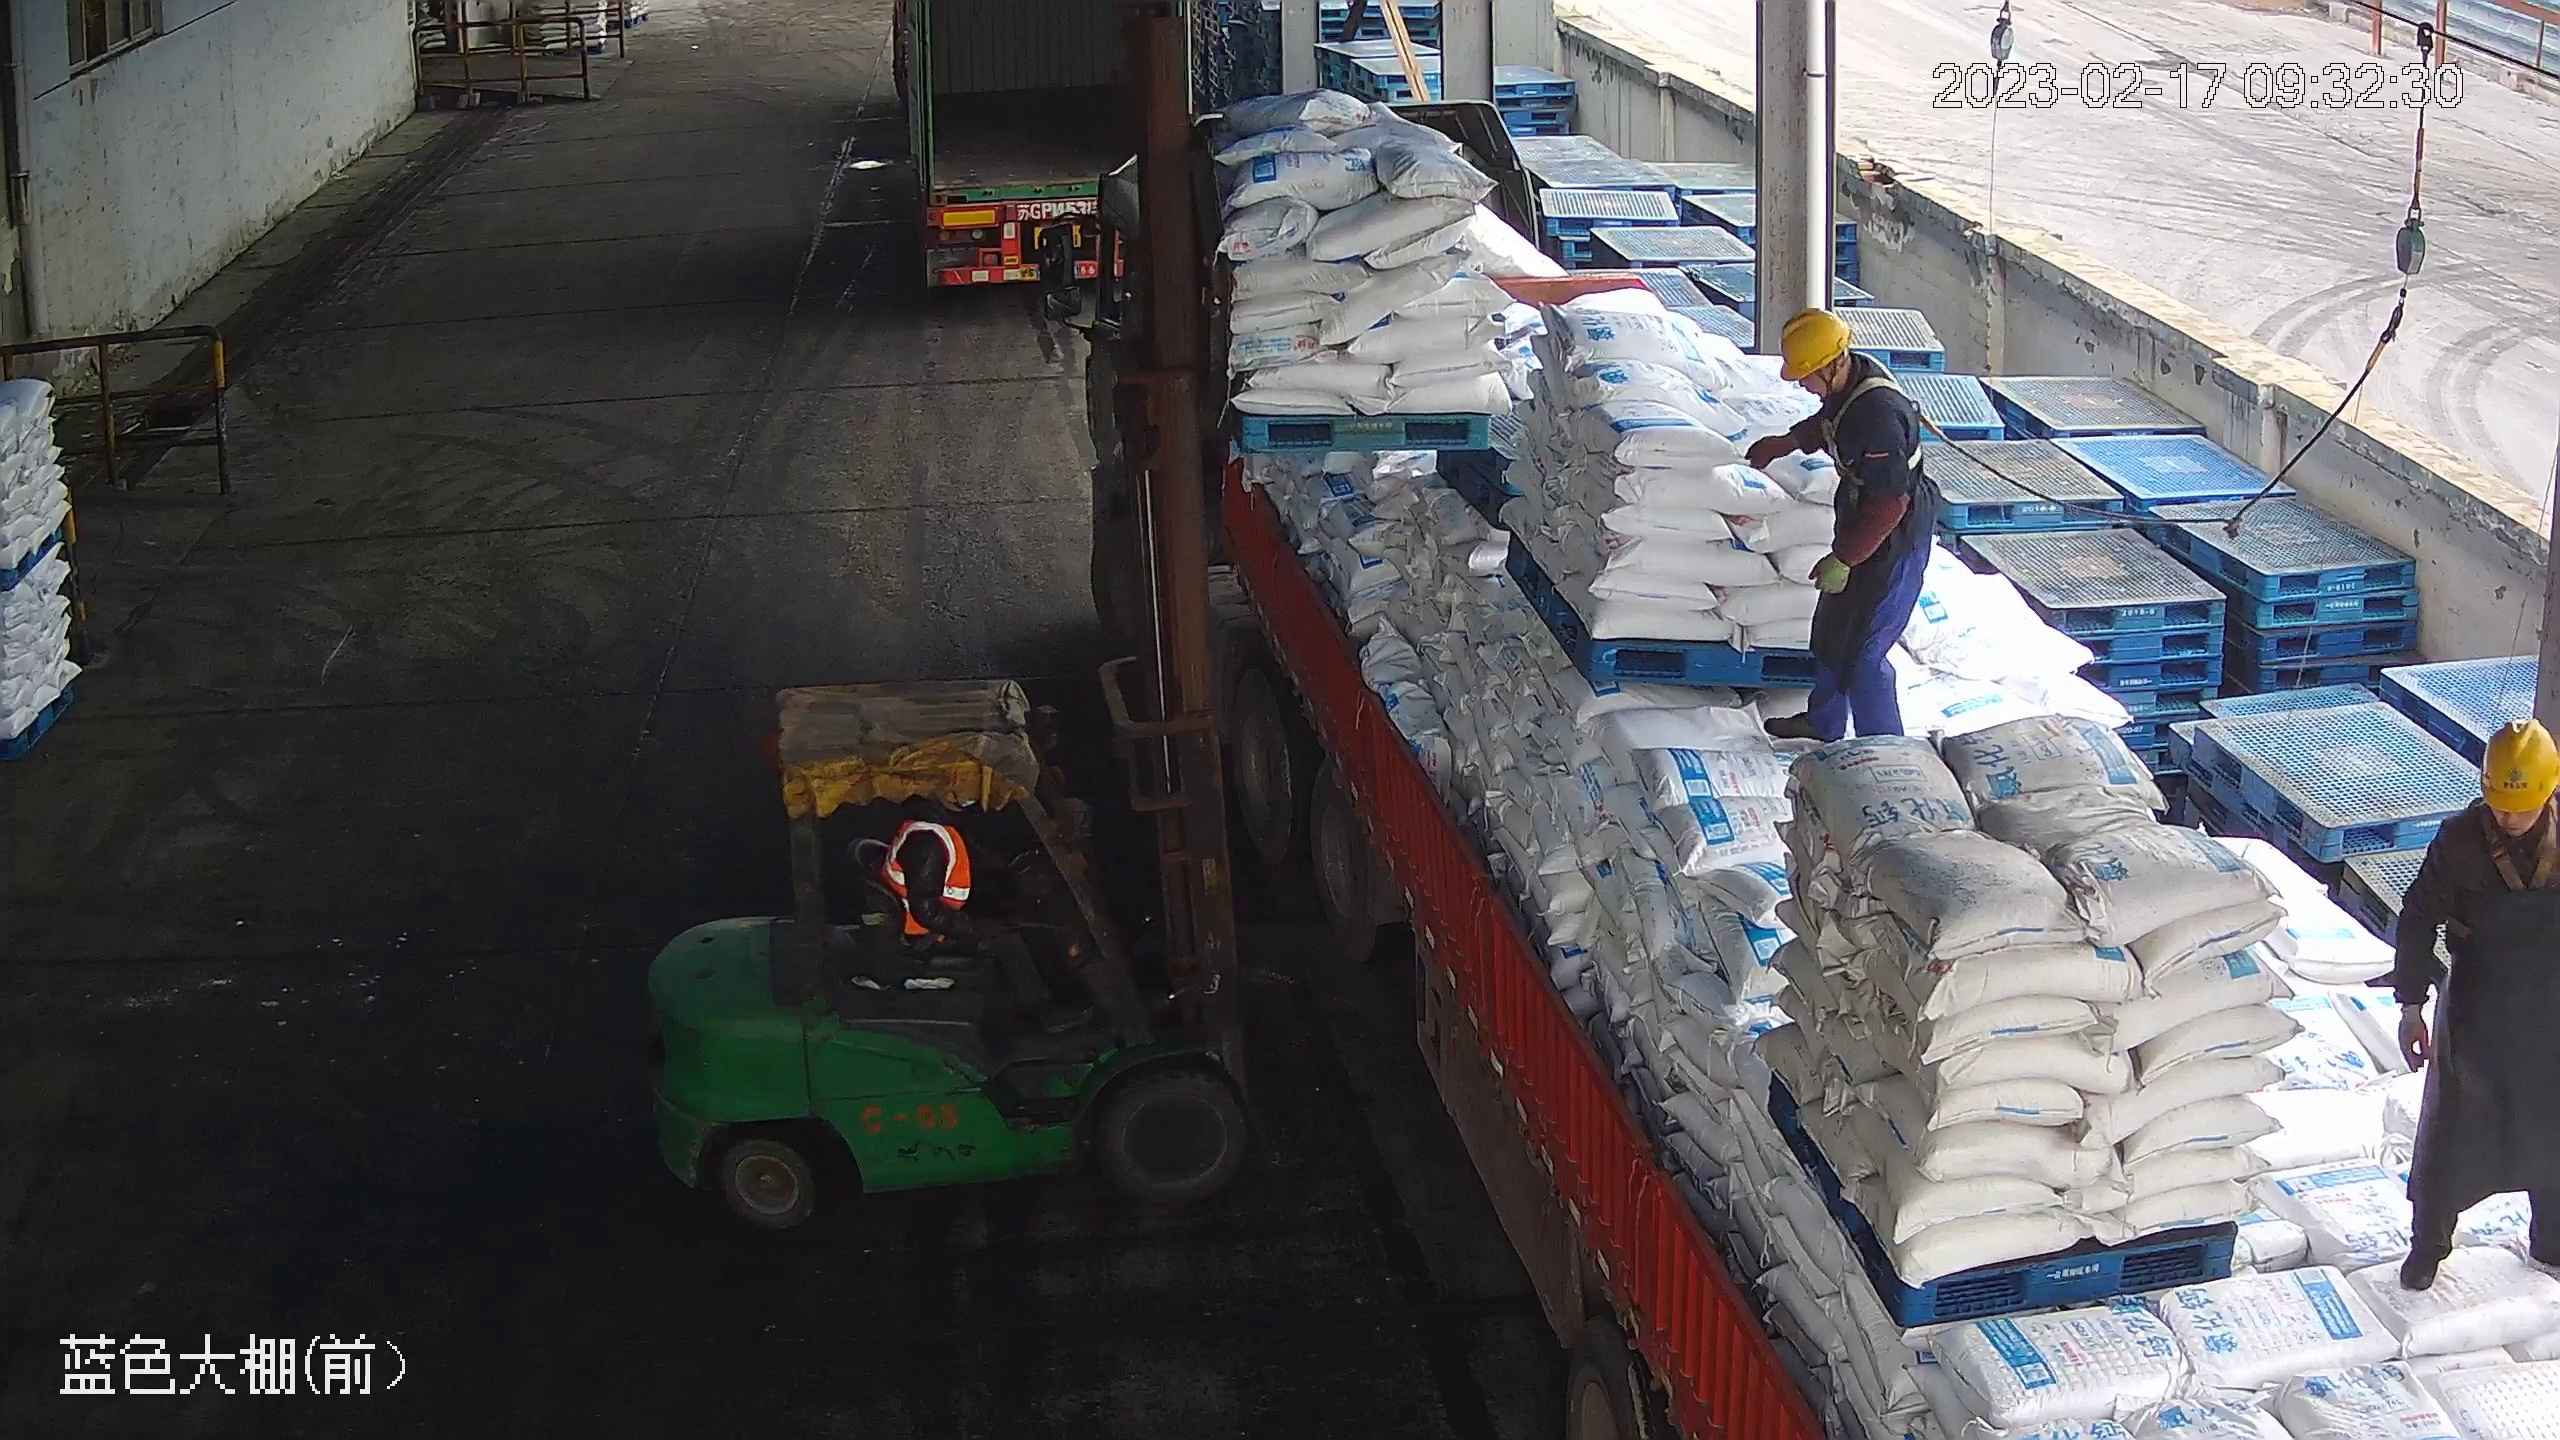belt: (1831, 365, 1933, 469), (2479, 806, 2558, 883)
head: (2414, 714, 2560, 904), (1774, 305, 1913, 444)
helmet: (2475, 713, 2559, 817), (1776, 303, 1854, 379)
people: (2382, 709, 2559, 1302), (1744, 305, 1940, 747), (869, 795, 1090, 1023)
truck: (1110, 85, 2560, 1440), (882, 1, 1188, 292)
